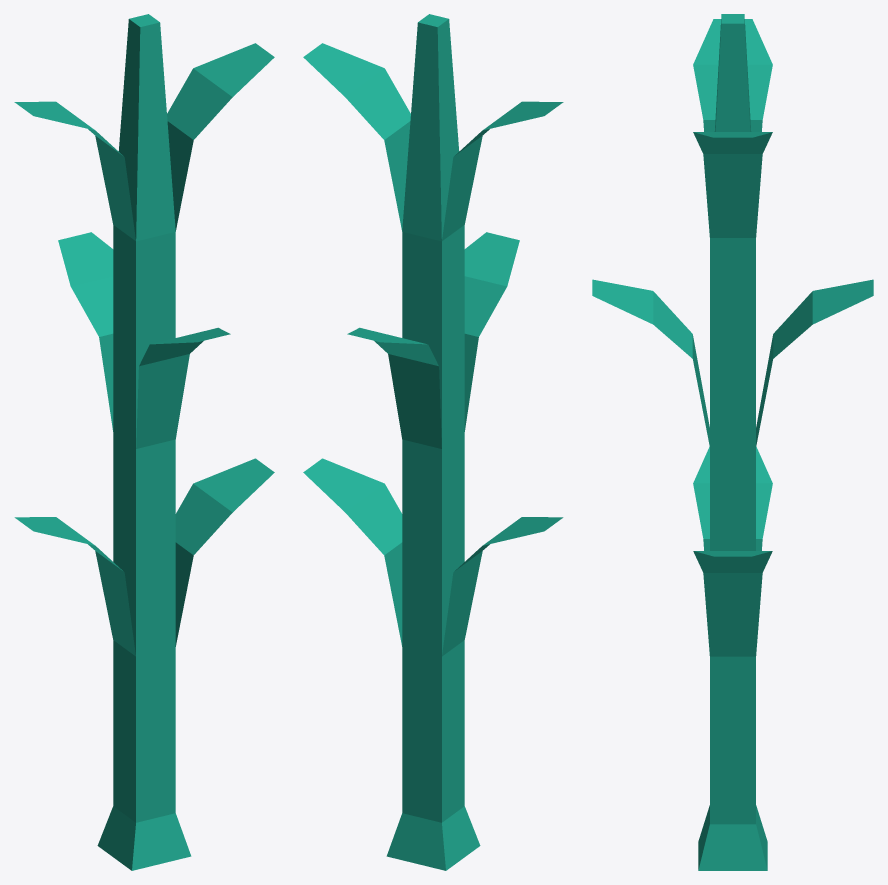
Rendered from crops_cornStageB.glb.
3 views of the same model, side by side, from view 1: azimuth 30°, elevation 25°; view 2: azimuth 150°, elevation 25°; view 3: azimuth 270°, elevation 25° (orthographic).
Visible parts, largest first — view 1: crops_cornStageB; view 2: crops_cornStageB; view 3: crops_cornStageB.
Part boxes in pixels (x1=…): crops_cornStageB: x1=14, y1=14, x2=274, y2=870; crops_cornStageB: x1=303, y1=14, x2=563, y2=870; crops_cornStageB: x1=592, y1=14, x2=873, y2=870.
Bounding box in the file's own units: 0.365 × 1.2 × 0.365.
